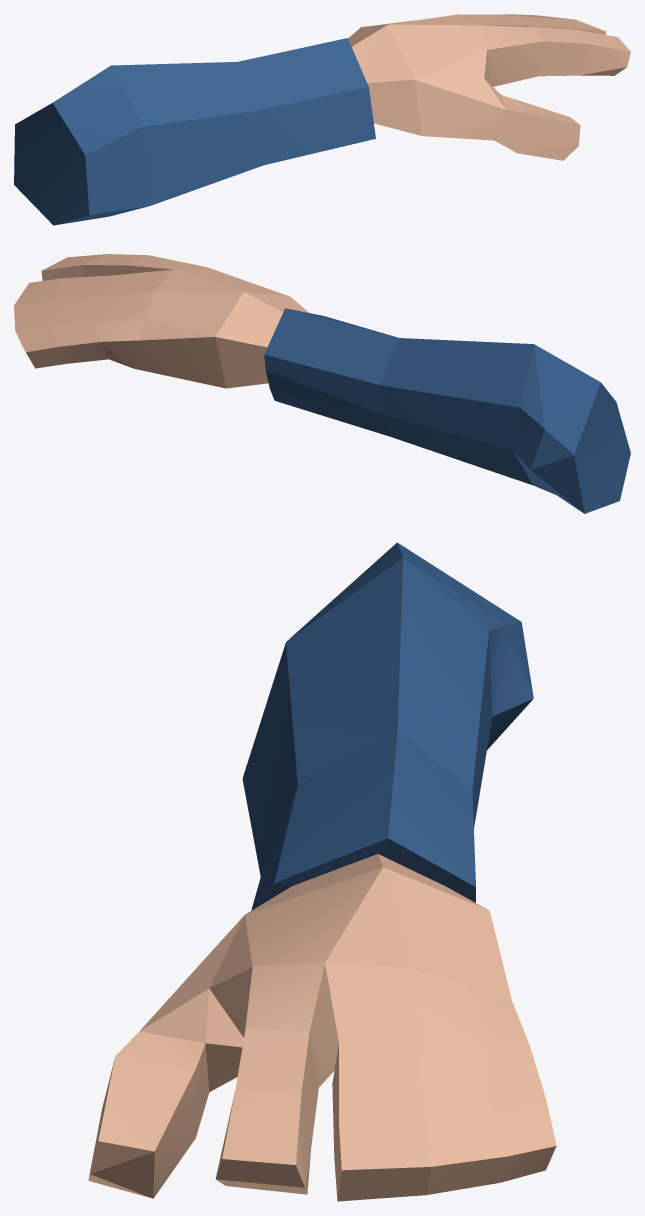
Rendered from Hand_L_Cop.glb.
3 renders of one model, top to bottom at view 1: azimuth 30°, elevation 25°; view 2: azimuth 150°, elevation 25°; view 3: azimuth 270°, elevation 25°, orthographic. The views are drawn at different scales.
Visible parts, largest first — view 1: Hand_L_Cop; view 2: Hand_L_Cop; view 3: Hand_L_Cop.
Part boxes in pixels (x1,y1,x2,y2): Hand_L_Cop: [14, 14, 630, 225]; Hand_L_Cop: [14, 254, 630, 513]; Hand_L_Cop: [88, 542, 556, 1201].
Size of the model in its own units: 0.5118 by 0.1235 by 0.188.
Materials: 1 (1 with a texture image).
